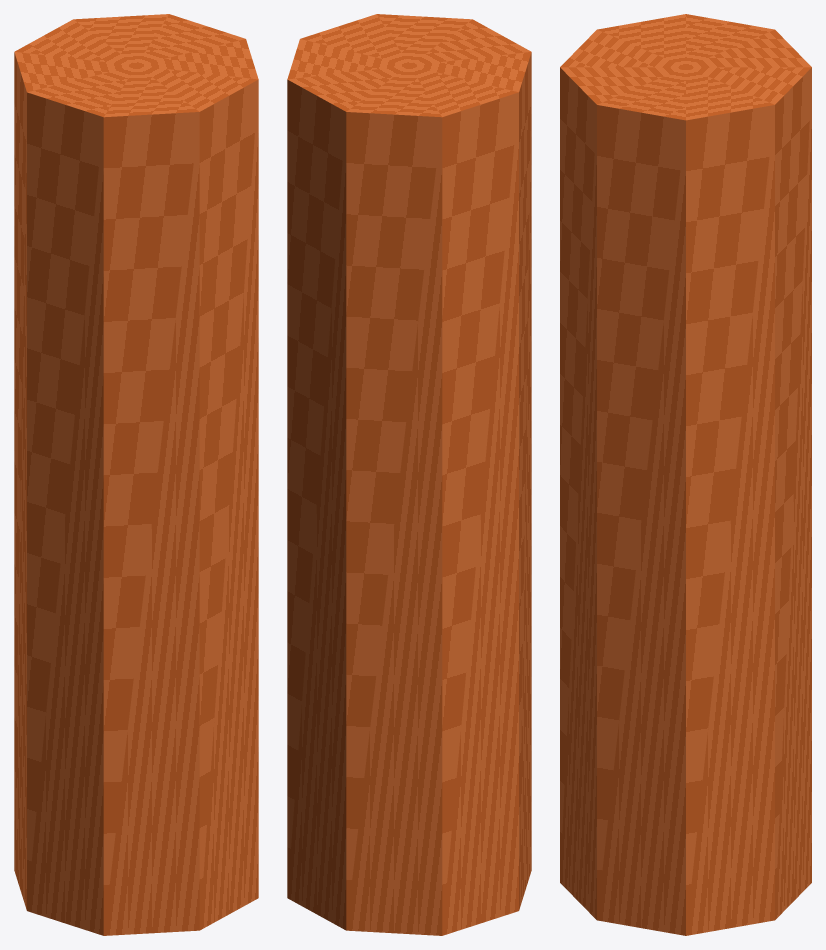
Rendered from buoy.glb.
3 renders of one model, left to right at view 1: azimuth 30°, elevation 25°; view 2: azimuth 150°, elevation 25°; view 3: azimuth 270°, elevation 25°, orthographic.
Parts seen in each view (by area): view 1: buoy; view 2: buoy; view 3: buoy.
Boxes of the visible parts, <box> form: buoy: <box>14,14,258,935</box>; buoy: <box>287,14,531,935</box>; buoy: <box>560,14,811,935</box>.
Size of the model in its own units: 1.4 by 5 by 1.4.
Materials: 2 (1 with a texture image).
